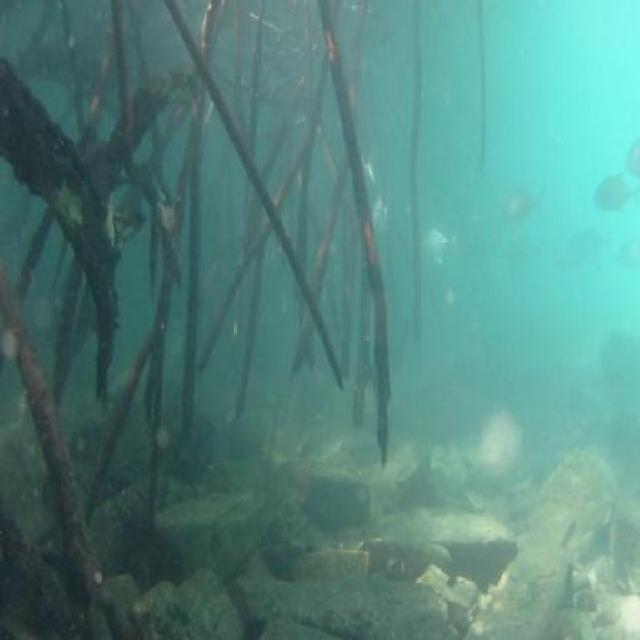Caranx_sexfasciatus_juvenile: (501, 181, 554, 237), (415, 222, 468, 276), (560, 229, 615, 280), (592, 162, 634, 218), (618, 138, 640, 182)
